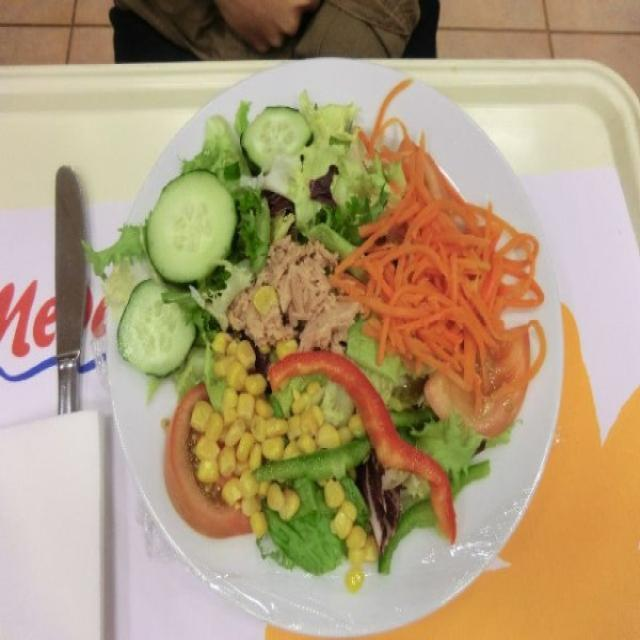Green Salad: (138, 105, 524, 570)
